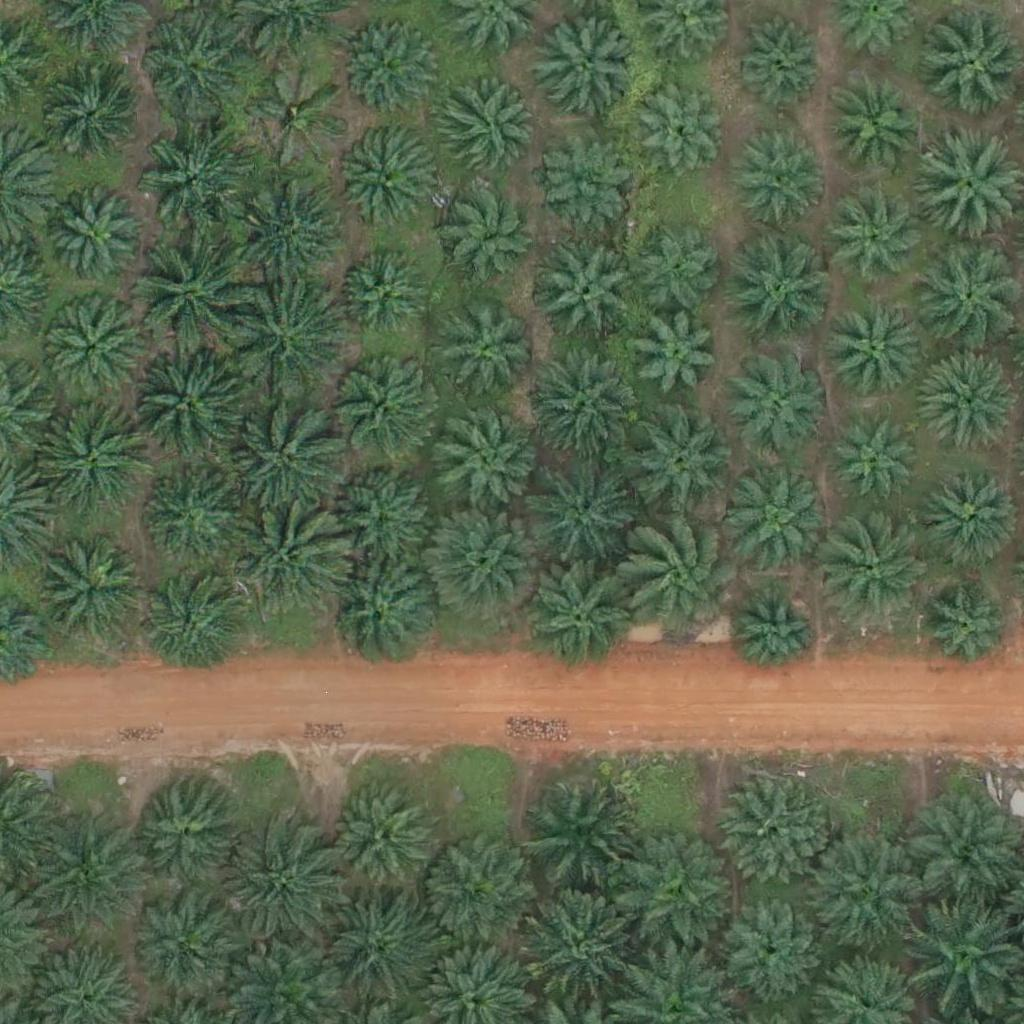Kelapa_Sawit: (621, 517, 746, 643), (132, 345, 245, 459), (718, 778, 831, 891), (616, 839, 729, 952), (419, 835, 532, 948), (317, 894, 430, 1007), (129, 887, 242, 1000), (22, 823, 135, 936), (909, 133, 1022, 246), (525, 354, 638, 467), (525, 455, 638, 568), (521, 562, 634, 675), (226, 399, 339, 512), (229, 170, 342, 283), (131, 239, 244, 352), (34, 403, 147, 516), (815, 835, 927, 949), (127, 777, 239, 891), (229, 284, 341, 398), (909, 798, 1021, 911), (528, 775, 640, 888), (521, 886, 633, 999), (225, 828, 337, 941), (822, 514, 934, 627), (621, 406, 733, 519), (430, 510, 542, 623), (324, 556, 436, 669), (229, 504, 341, 617), (137, 118, 249, 231), (36, 540, 148, 653), (719, 892, 819, 993), (327, 788, 427, 889), (923, 466, 1023, 567), (826, 74, 926, 175), (828, 191, 928, 292), (824, 302, 924, 403), (729, 123, 829, 224), (728, 242, 828, 343), (725, 351, 825, 452), (537, 18, 637, 119), (541, 247, 641, 348), (434, 80, 534, 181), (439, 180, 539, 281), (435, 412, 535, 513), (340, 15, 440, 116), (337, 131, 437, 232), (336, 357, 436, 458), (140, 16, 240, 117), (144, 469, 244, 570), (141, 578, 241, 679), (41, 301, 141, 402), (922, 349, 1022, 449), (730, 474, 830, 574), (533, 130, 633, 230), (337, 459, 437, 559), (249, 66, 349, 166), (38, 75, 138, 175), (51, 195, 139, 284), (924, 589, 1012, 677), (734, 16, 822, 104), (339, 256, 427, 344), (836, 417, 923, 506), (731, 589, 818, 677), (635, 84, 722, 172), (635, 225, 722, 313), (632, 313, 719, 401), (443, 308, 530, 396)
